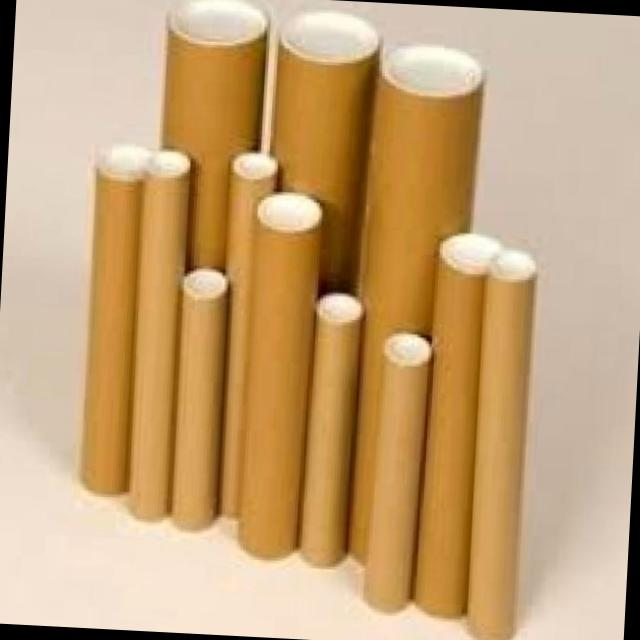cardboard paper: (359, 47, 483, 488), (417, 234, 500, 617), (239, 194, 321, 557), (275, 12, 379, 285), (164, 0, 269, 269), (468, 248, 536, 640), (81, 146, 146, 495), (130, 152, 190, 517), (366, 333, 431, 610), (302, 294, 361, 565), (172, 269, 227, 528)
